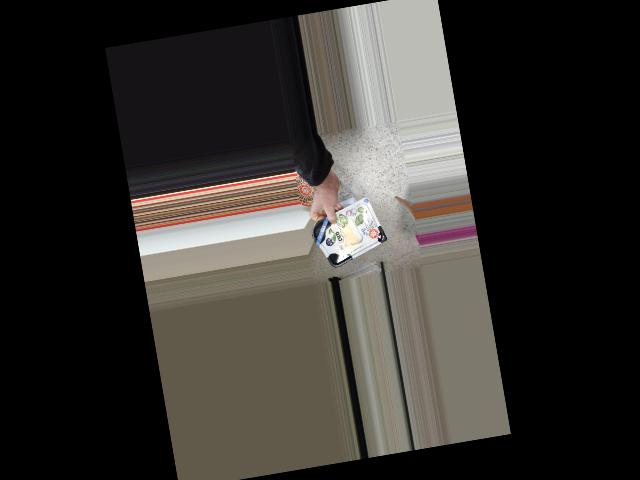cheese: (314, 206, 384, 263)
